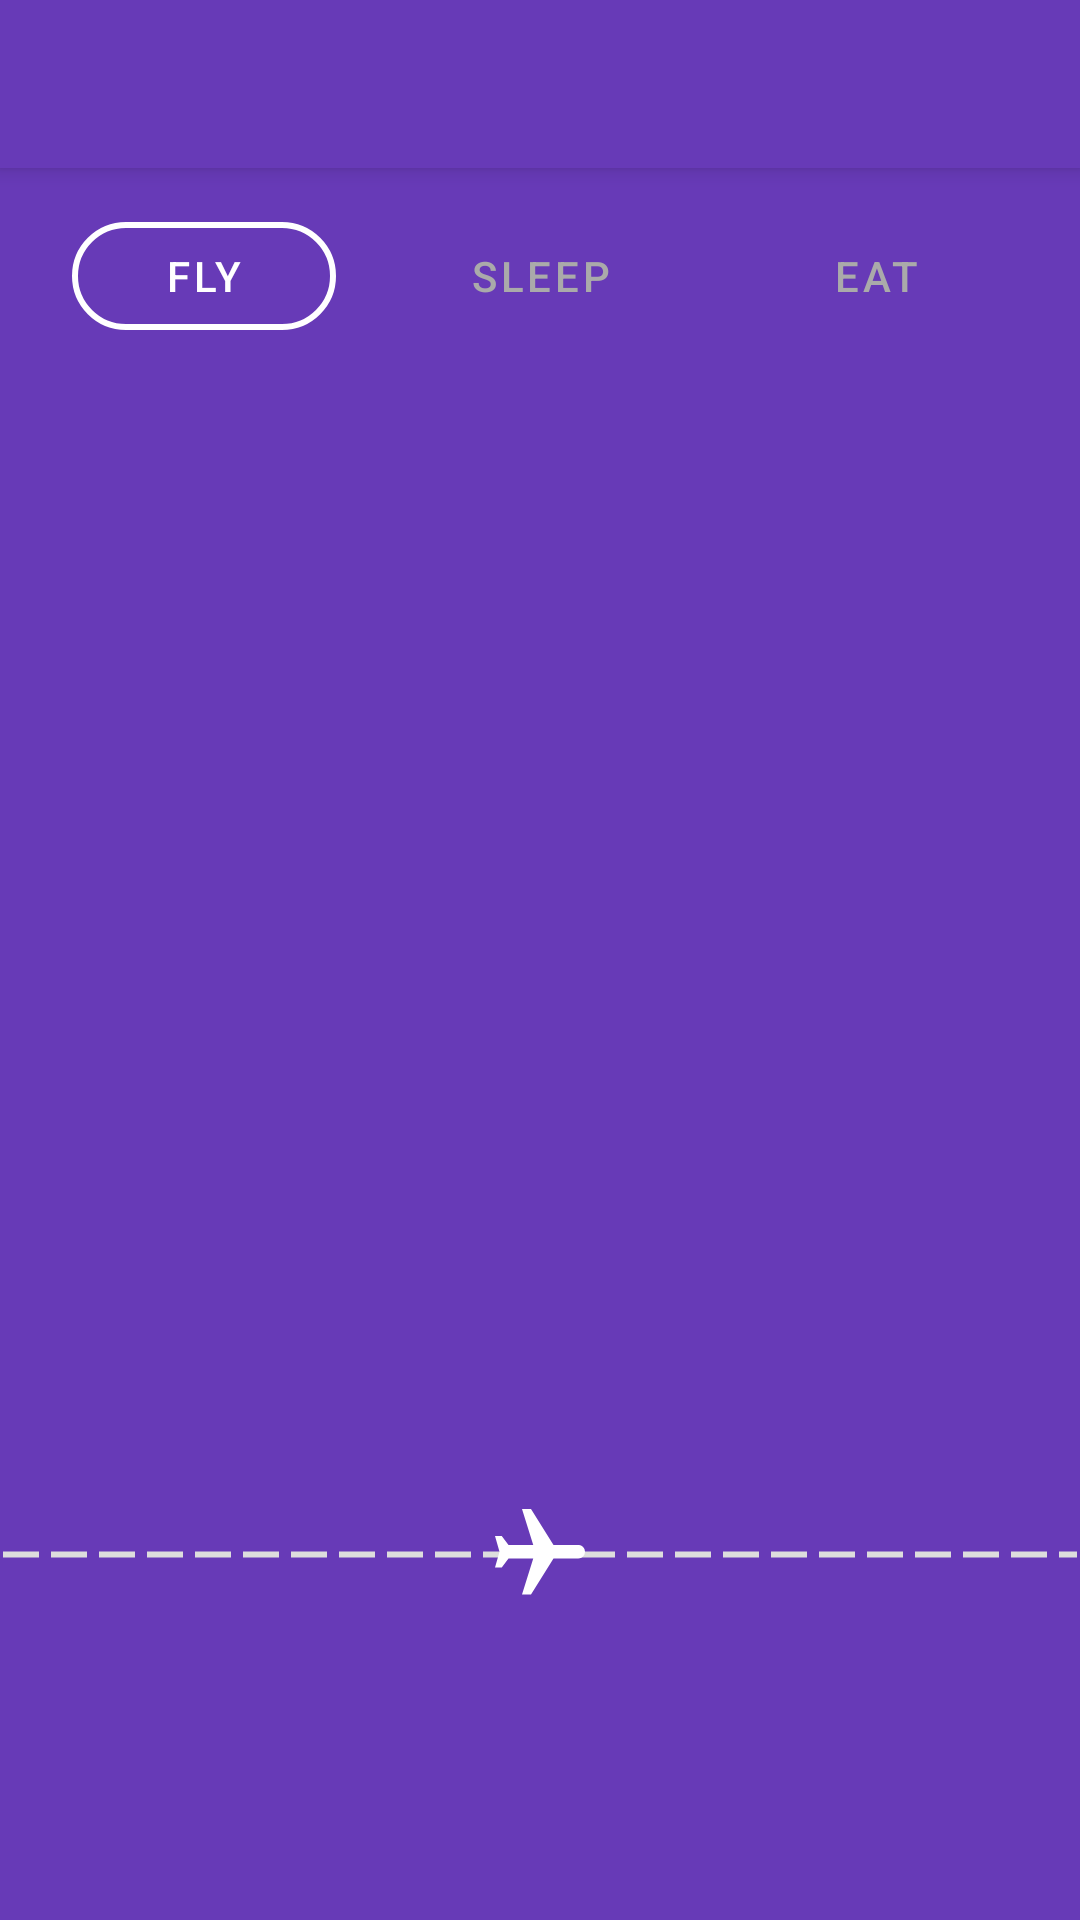

Where icons sit on this 1080px×1920px app screen, as (x1, y1, x2, y2):
rotated flight: (486, 1509, 594, 1595)
